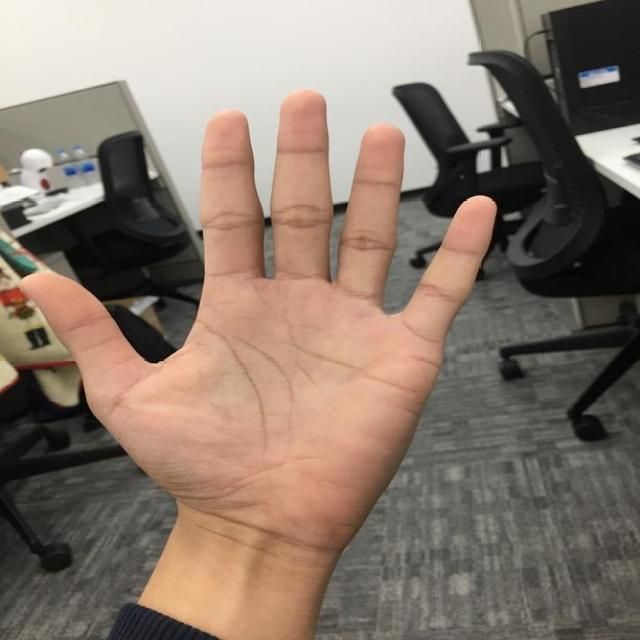hand: (20, 88, 500, 547)
